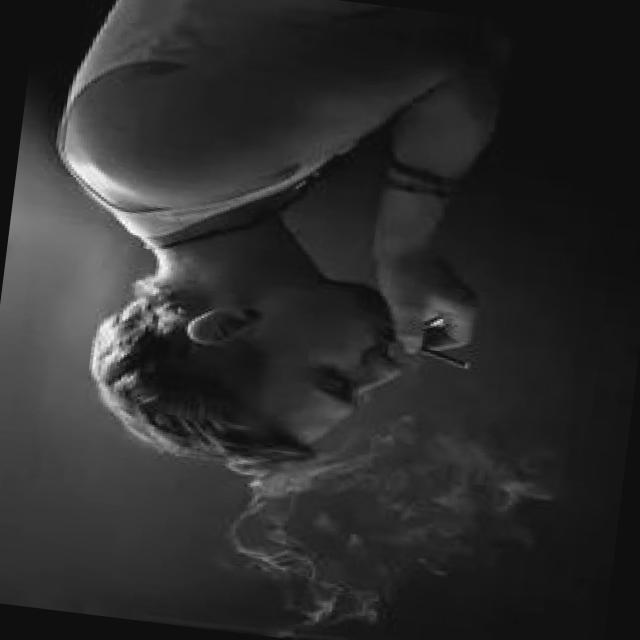smoke: (404, 337, 484, 376)
